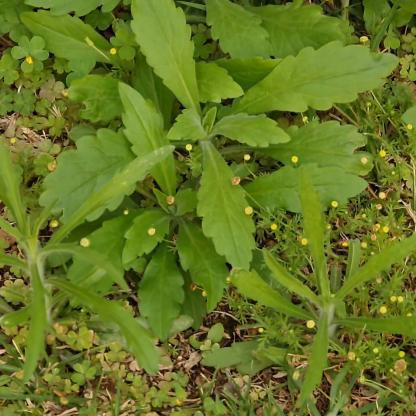Weeds: (37, 0, 399, 346), (196, 169, 415, 415), (0, 135, 181, 392)
